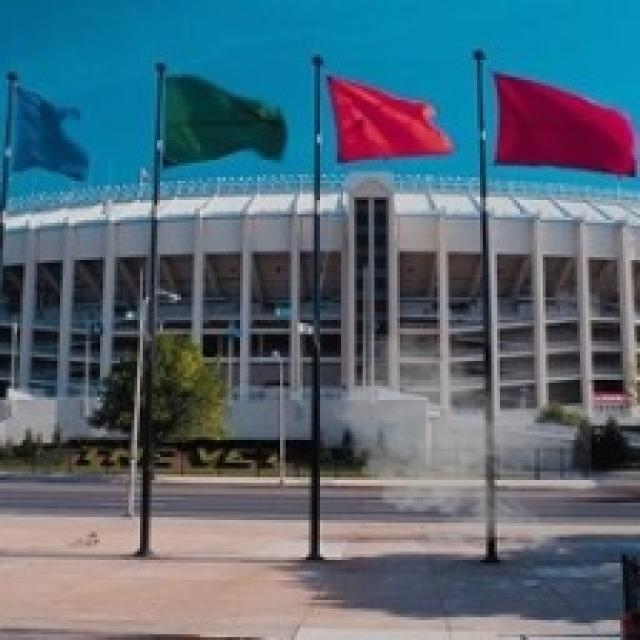Smoke: (323, 326, 591, 558)
